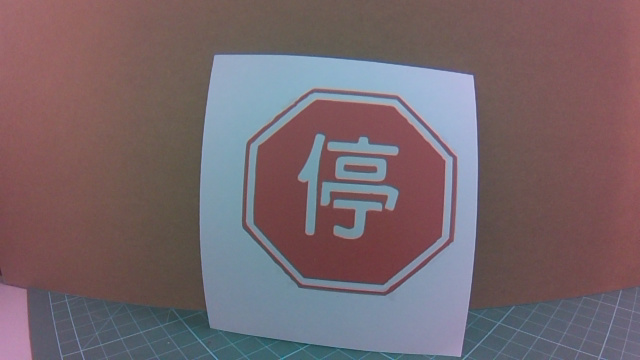stop: (264, 99, 450, 305)
